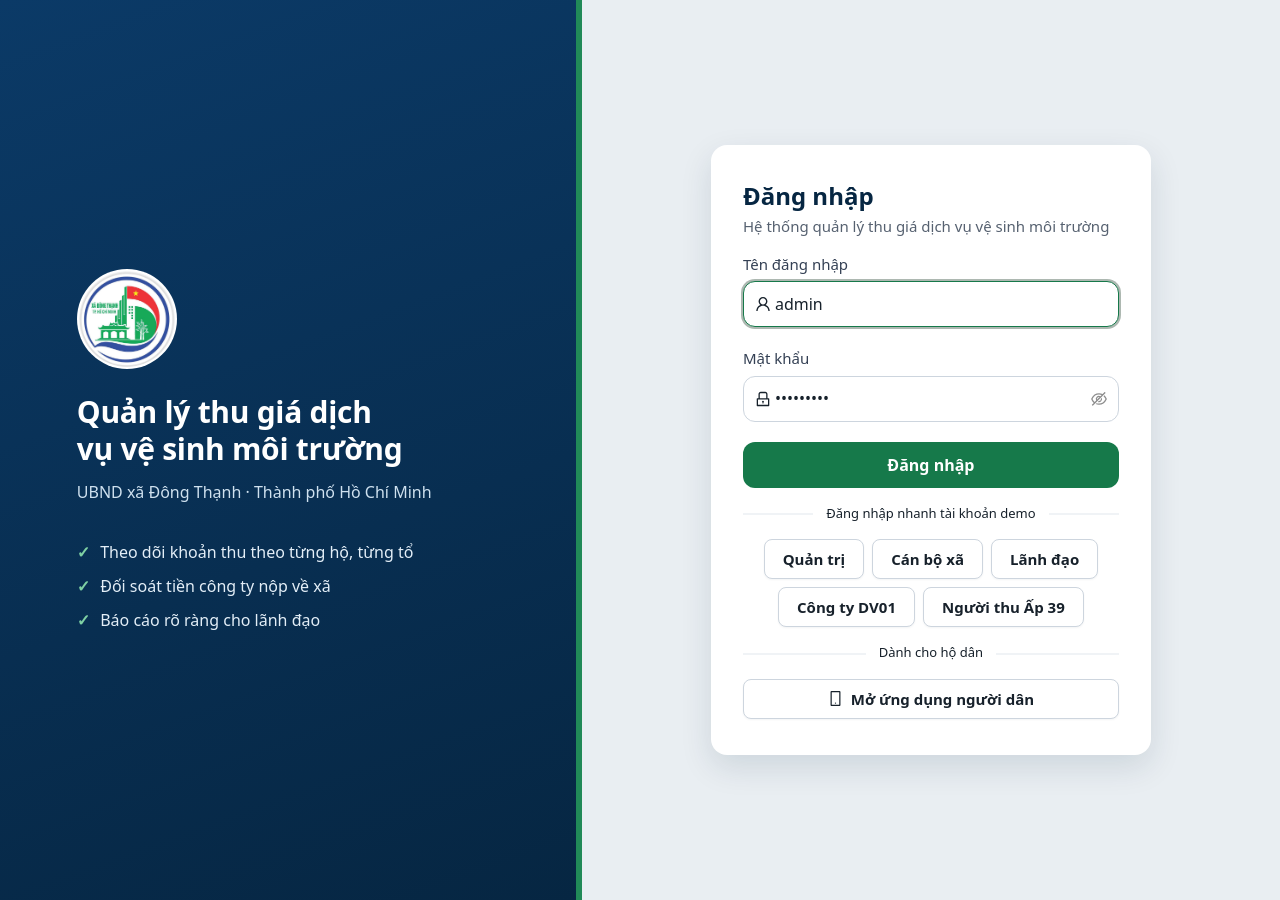
Test: đăng nhập › bỏ trống thì báo lỗi ngay trên form
Clear the field labelled "Tên đăng nhập". click: (941, 304)
box: [775,293,1107,316]
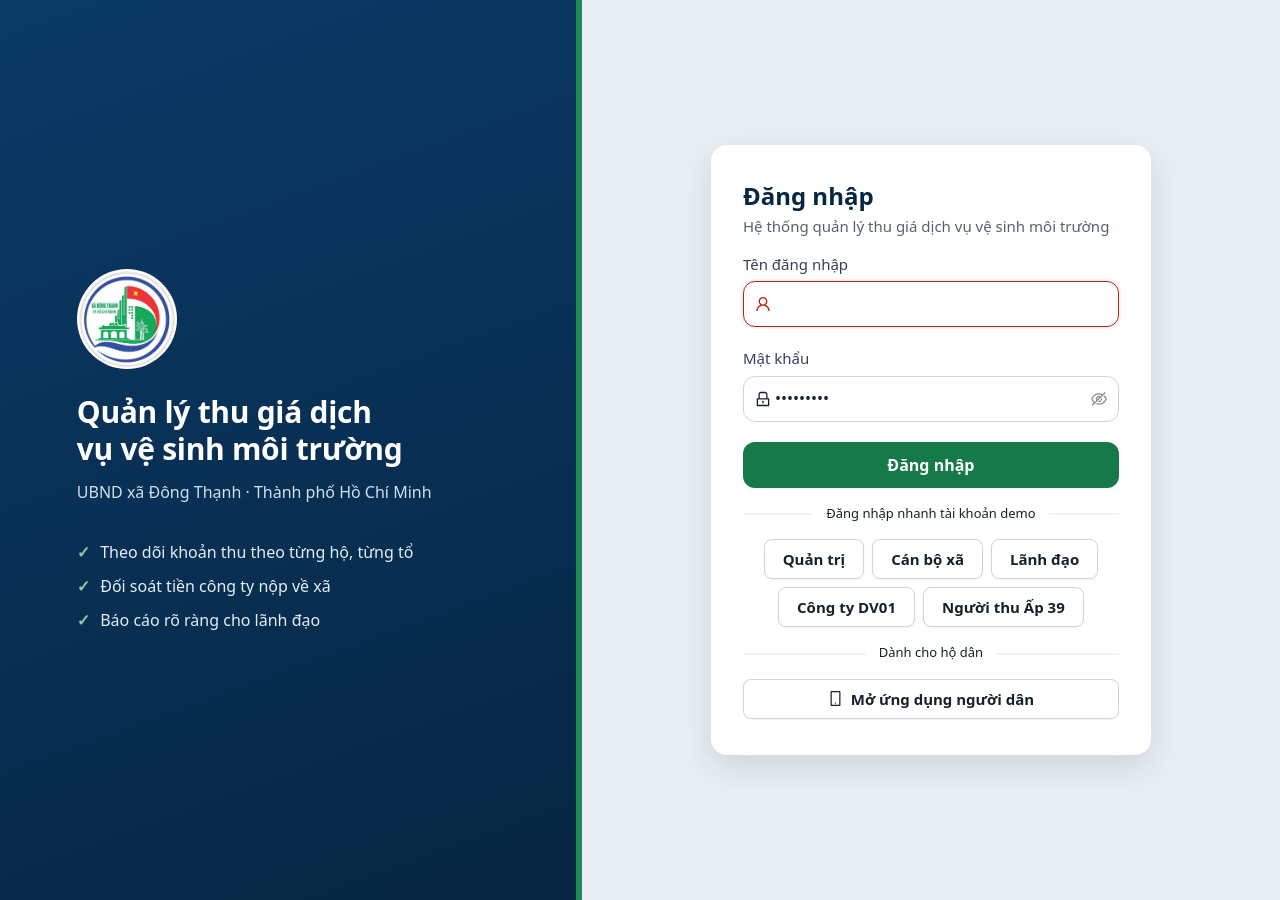
Clear the password field labelled "Mật khẩu". click: (931, 399)
box: [775,387,1087,410]
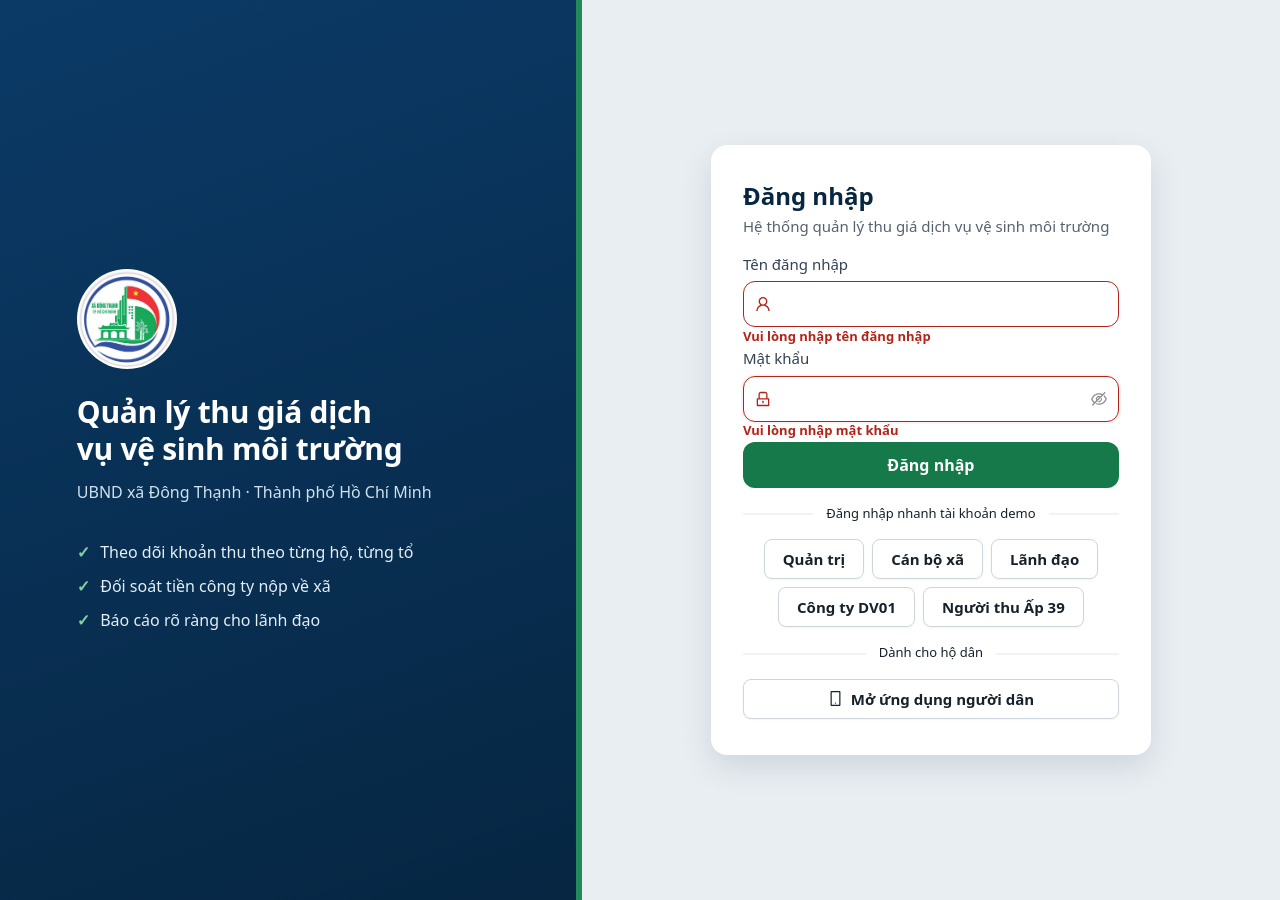
Click the button "Đăng nhập". click: (931, 465)
box: [743,442,1119,488]
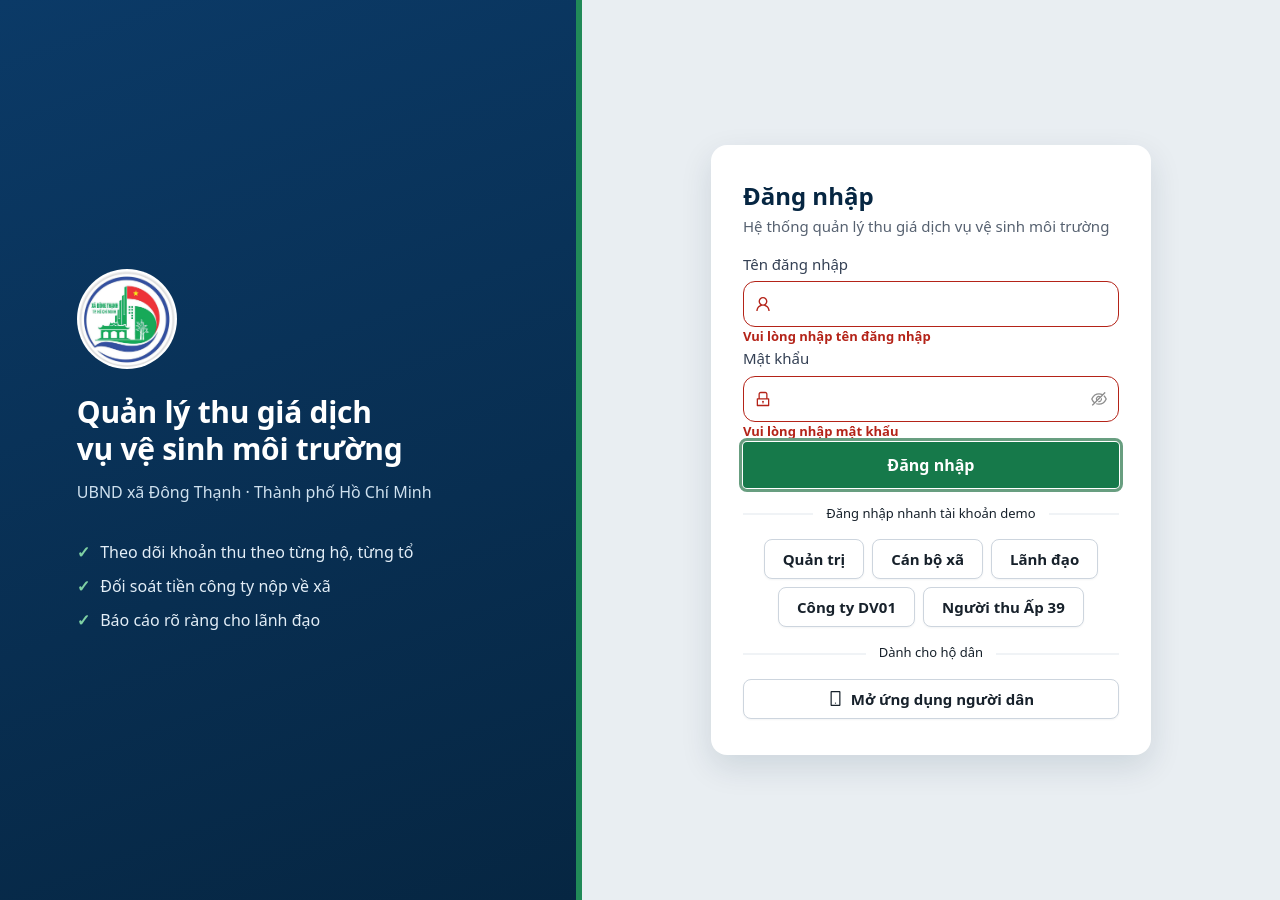
Expected: the text "Vui lòng nhập tên đăng nhập" is shown, [743,327,931,345]
Expected: the text "Vui lòng nhập mật khẩu" is shown, [743,422,898,440]
